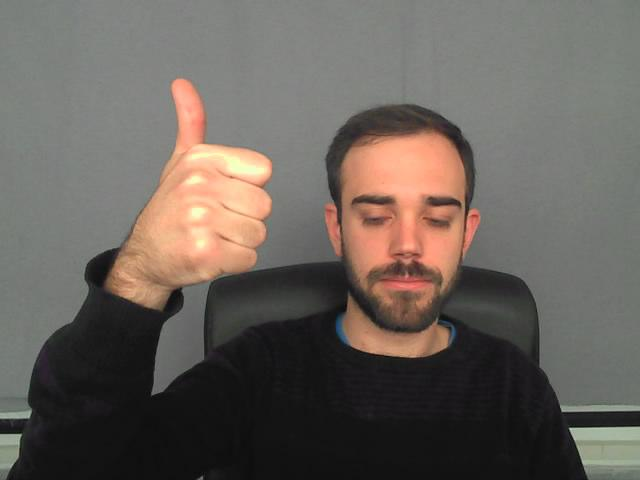thumbs-up: (143, 77, 270, 286)
